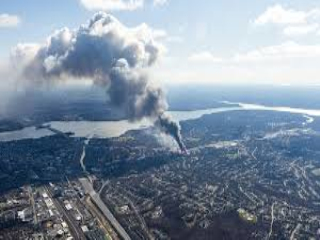smoke: (69, 24, 196, 157)
